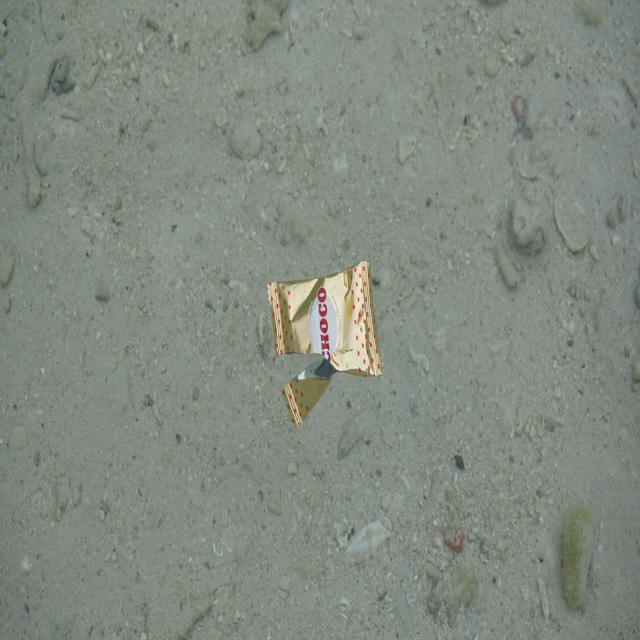Bungkus Makanan: (260, 253, 388, 438)
